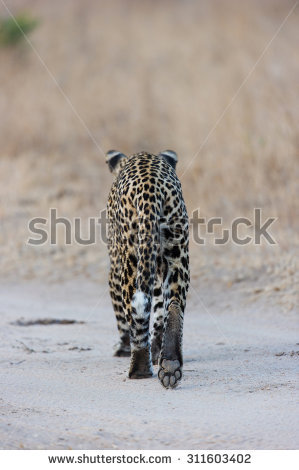leopard: (99, 144, 190, 394)
